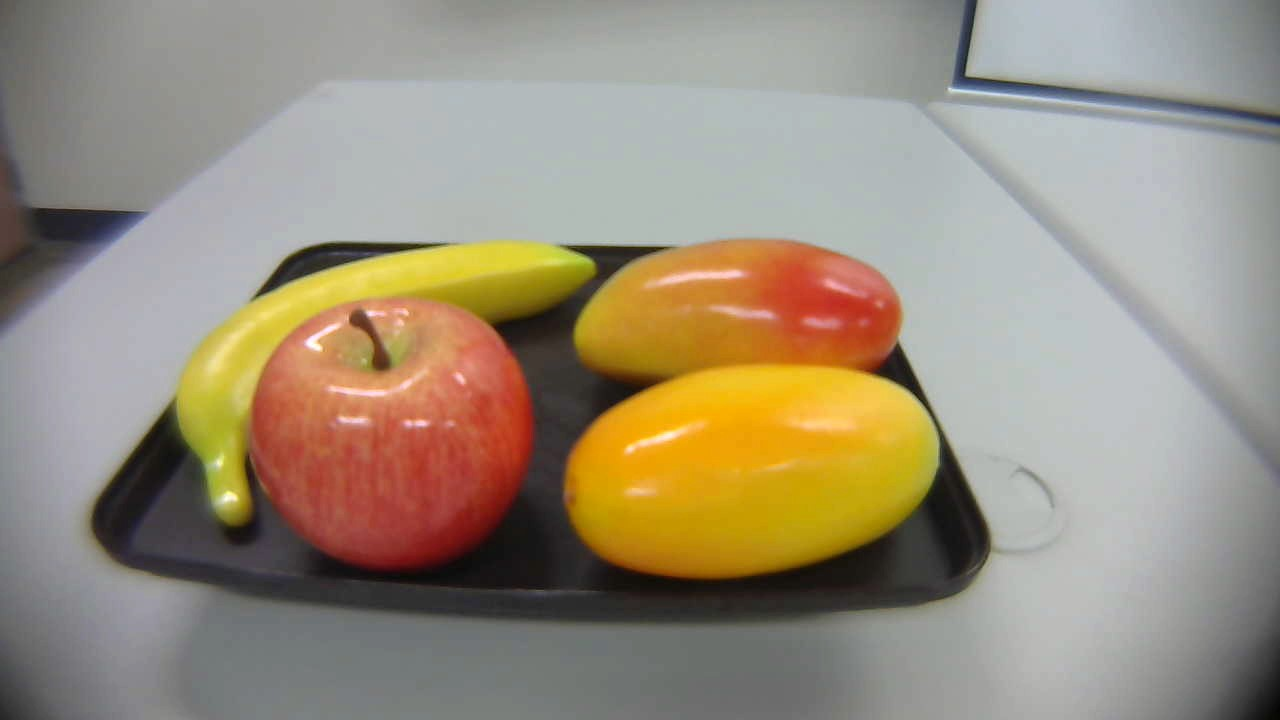banana: (150, 219, 600, 534)
red apple: (242, 294, 545, 581)
red mango: (572, 234, 910, 381)
yellow mango: (542, 359, 967, 586)
